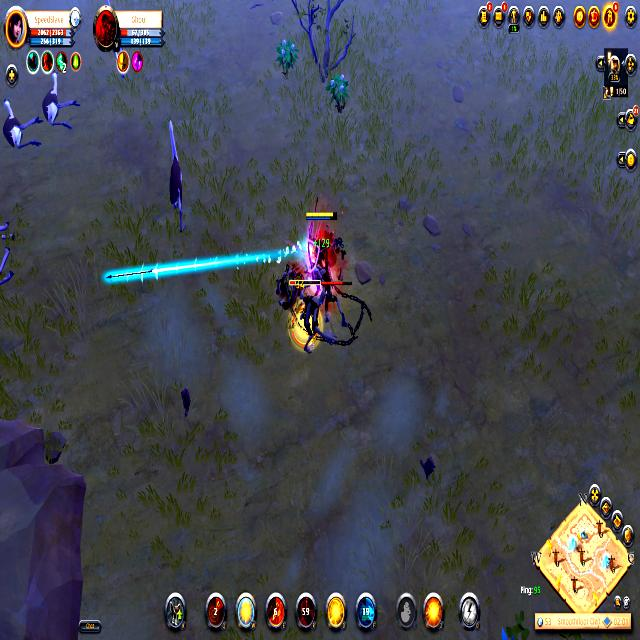hide: (325, 68, 352, 117), (275, 35, 299, 79)
mob: (0, 94, 44, 157), (41, 72, 82, 138)
ore: (157, 110, 194, 228), (290, 272, 332, 350)
red: (303, 206, 341, 285)
